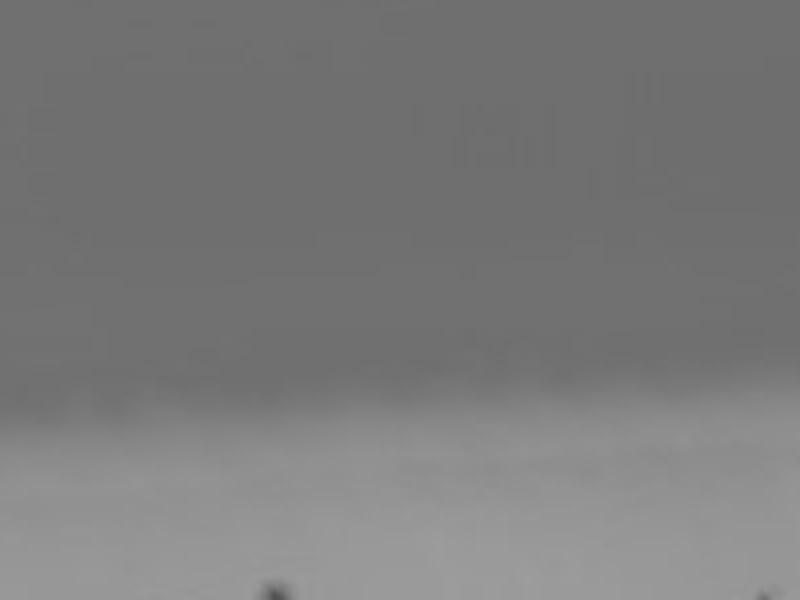defect: (256, 576, 296, 600)
